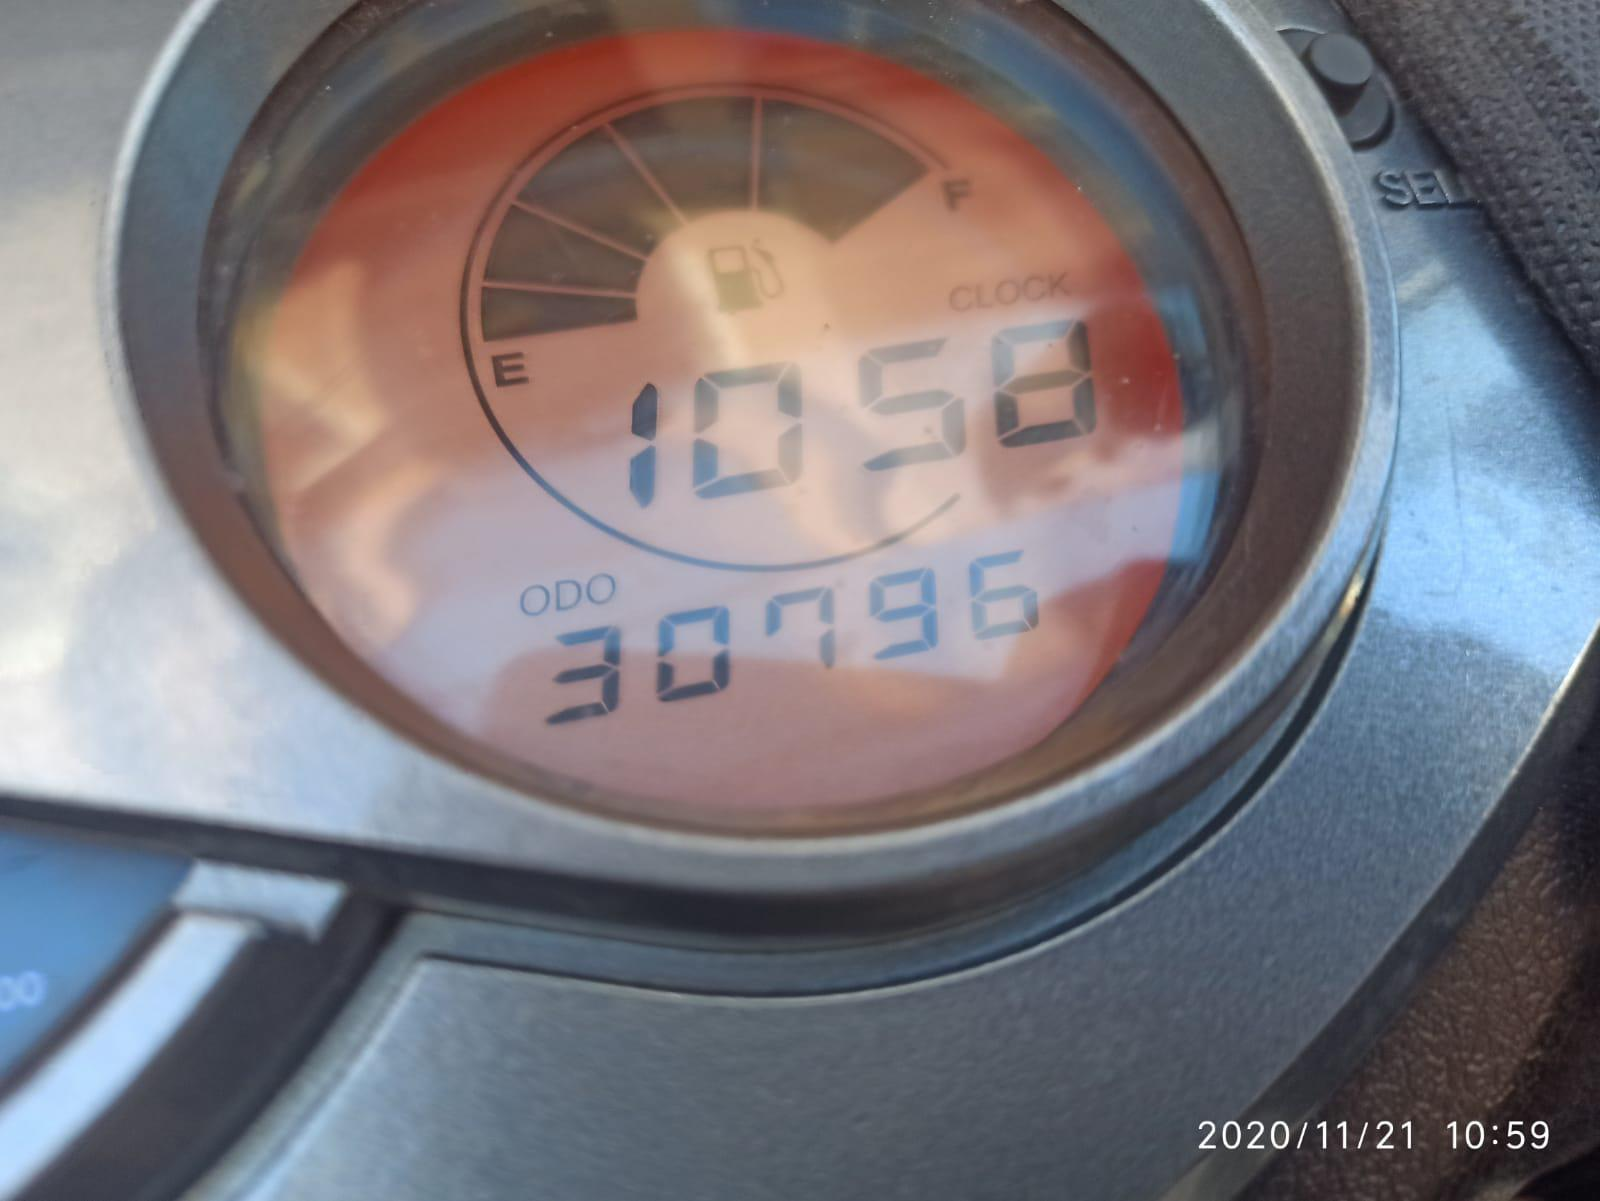0: (688, 354, 816, 510), (654, 603, 733, 705)
1: (618, 367, 669, 518)
3: (544, 626, 622, 725)
5: (852, 327, 970, 479)
6: (967, 548, 1041, 642)
7: (763, 583, 838, 670)
8: (991, 315, 1105, 455)
9: (868, 566, 940, 662)
X: (483, 346, 532, 392), (939, 175, 985, 216), (519, 582, 551, 616), (554, 577, 584, 611), (585, 571, 616, 606), (946, 283, 974, 314), (1046, 267, 1074, 299), (1021, 272, 1046, 304), (997, 278, 1020, 308), (975, 280, 996, 313)
odometer: (225, 13, 1243, 836)
